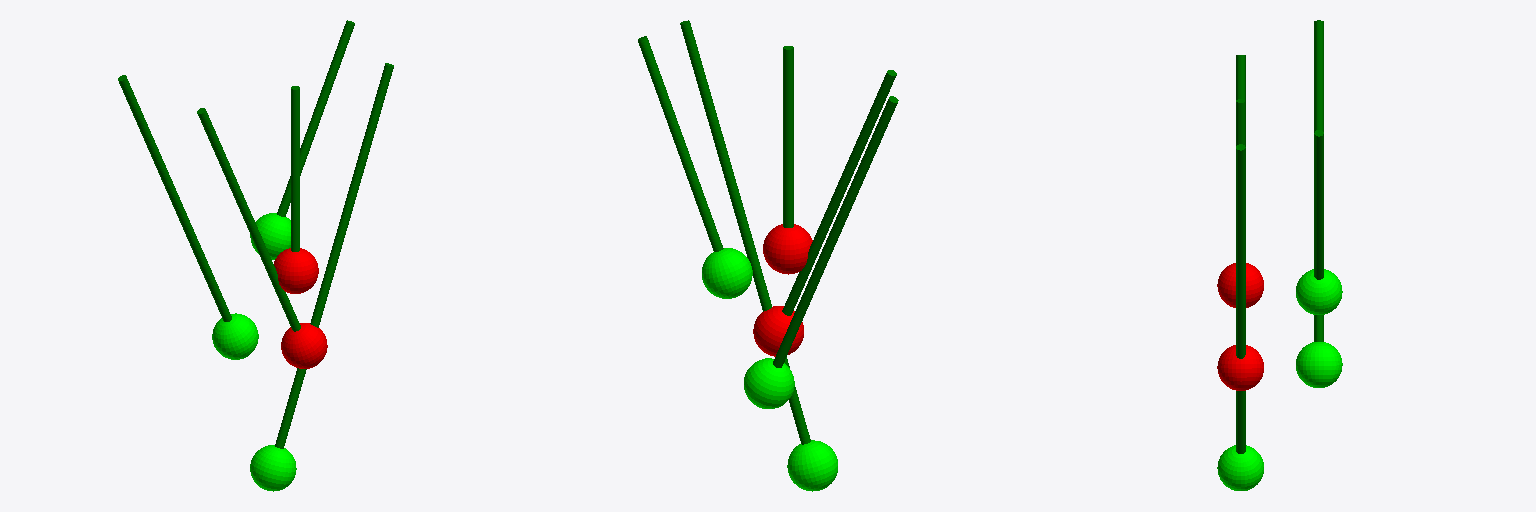
robot.urdf — straw_cluster11:
<?xml version="1.0" ?>
<!-- =================================================================================== -->
<!-- |    This document was autogenerated by xacro from cluster11_extras.xacro         | -->
<!-- |    EDITING THIS FILE BY HAND IS NOT RECOMMENDED                                 | -->
<!-- =================================================================================== -->
<robot name="straw_cluster11" xmlns:xacro="http://www.ros.org/wiki/xacro">
  <link name="world"/>
  <!-- Robot21 -->
  <link name="/yball_stem111">
    <gravity>1</gravity>
    <inertial>
      <origin rpy="0 0 0" xyz="0 0 0"/>
      <mass value=".00001"/>
      <inertia ixx="0.0000004" ixy="0.0" ixz="0.0" iyy="0.0000004" iyz="0.0" izz="0.0000004"/>
    </inertial>
    <visual>
      <geometry>
        <sphere radius=".00001"/>
      </geometry>
    </visual>
    <collision>
      <geometry>
        <sphere radius=".00001"/>
      </geometry>
    </collision>
  </link>
  <gazebo reference="/yball_stem111">
    <material>Gazebo/Green</material>
  </gazebo>
  <joint name="/stem111y" type="revolute">
    <parent link="world"/>
    <child link="/yball_stem111"/>
    <origin rpy="0 0 0" xyz="-0.45 -0.95 1.19"/>
    <!-- <origin xyz="0 0.06 1.19" rpy="0 0 0"/> in case of reference /base_link -->
    <axis xyz="0 1 0"/>
    <dynamics damping="0.0001" friction="0.0002"/>
    <limit effort="0.1" lower="-3.14159265359" upper="3.14159265359" velocity="1"/>
  </joint>
  <link name="/xball_stem111">
    <gravity>1</gravity>
    <inertial>
      <origin rpy="0 0 0" xyz="0 0 0"/>
      <mass value=".00001"/>
      <inertia ixx="0.0000004" ixy="0.0" ixz="0.0" iyy="0.0000004" iyz="0.0" izz="0.0000004"/>
    </inertial>
    <visual>
      <geometry>
        <sphere radius=".00001"/>
      </geometry>
    </visual>
    <collision>
      <geometry>
        <sphere radius=".00001"/>
      </geometry>
    </collision>
  </link>
  <gazebo reference="/xball_stem111">
    <material>Gazebo/Green</material>
  </gazebo>
  <joint name="/stem111x" type="revolute">
    <parent link="/yball_stem111"/>
    <child link="/xball_stem111"/>
    <origin rpy="0 0 0" xyz="0 0 0"/>
    <axis xyz="1 0 0"/>
    <dynamics damping="0.0001" friction="0.0002"/>
    <limit effort="0.1" lower="-3.14159265359" upper="3.14159265359" velocity="0.1"/>
  </joint>
  <!-- Define stem of straw111 -->
  <link name="/stem111">
    <inertial>
      <origin rpy="0 0 0" xyz="0 0 0"/>
      <mass value="0.0002"/>
      <inertia ixx="0.0000000005" ixy="0.0" ixz="0.0" iyy="0.0000000005" iyz="0.0" izz="0.0000000005"/>
    </inertial>
    <collision>
      <geometry>
        <cylinder length="0.13" radius="0.003"/>
      </geometry>
      <material name="green">
        <color rgba="0 0.501960784314 0 1"/>
      </material>
      <origin rpy="0 0 0" xyz="0 0 -0.065"/>
    </collision>
    <visual>
      <geometry>
        <cylinder length="0.13" radius="0.003"/>
      </geometry>
      <material name="green">
        <color rgba="0 0.501960784314 0 1"/>
      </material>
      <origin rpy="0 0 0" xyz="0 0 -0.065"/>
    </visual>
  </link>
  <gazebo reference="/stem111">
    <mu1>0.01</mu1>
    <mu2>0.01</mu2>
    <selfCollide>true</selfCollide>
    <maxContacts>2</maxContacts>
    <minDepth>0</minDepth>
    <maxVel>0.01</maxVel>
    <kp value="1"/>
    <kd value="0.1"/>
    <material>Gazebo/Green</material>
  </gazebo>
  <joint name="/xball_stem111" type="fixed">
    <parent link="/xball_stem111"/>
    <child link="/stem111"/>
    <origin rpy="0 0 0" xyz="0 0 0"/>
  </joint>
  <!-- Define straw111 -->
  <link name="/straw111">
    <gravity>1</gravity>
    <inertial>
      <origin rpy="0 0 0" xyz="0 0 0"/>
      <mass value="0.0002"/>
      <inertia ixx="0.00000018" ixy="0.0" ixz="0.0" iyy="0.00000018" iyz="0.0" izz="0.00000018"/>
    </inertial>
    <collision>
      <geometry>
        <sphere radius="0.015"/>
      </geometry>
    </collision>
    <visual>
      <geometry>
        <sphere radius="0.015"/>
      </geometry>
      <material name="Red">
        <color rgba="1 0 0 1"/>
      </material>
    </visual>
  </link>
  <gazebo reference="/straw111">
    <mu1>0.01</mu1>
    <mu2>0.01</mu2>
    <selfCollide>true</selfCollide>
    <maxContacts>2</maxContacts>
    <minDepth>0</minDepth>
    <maxVel>0.01</maxVel>
    <kp value="1000"/>
    <kd value="1"/>
    <material>Gazebo/Red</material>
  </gazebo>
  <joint name="/straw1_stem111" type="revolute">
    <parent link="/stem111"/>
    <child link="/straw111"/>
    <origin rpy="0 0 0" xyz="0 0 -0.13"/>
    <axis xyz="0 1 0"/>
    <dynamics damping="0.0000001" friction="0.0000002"/>
    <limit effort="0.01" lower="-3.14159265359" upper="3.14159265359" velocity="0.1"/>
  </joint>
  <!-- Robot22 -->
  <link name="/yball_stem112">
    <gravity>1</gravity>
    <inertial>
      <origin rpy="0 0 0" xyz="0 0 0"/>
      <mass value=".00001"/>
      <inertia ixx="0.00001" ixy="0.0" ixz="0.0" iyy="0.00001" iyz="0.0" izz="0.00001"/>
    </inertial>
    <visual>
      <geometry>
        <sphere radius=".00001"/>
      </geometry>
    </visual>
    <collision>
      <geometry>
        <sphere radius=".00001"/>
      </geometry>
    </collision>
  </link>
  <gazebo reference="/yball_stem112">
    <material>Gazebo/Green</material>
  </gazebo>
  <joint name="/stem112y" type="revolute">
    <parent link="world"/>
    <child link="/yball_stem112"/>
    <origin rpy="0 0.314159265359 0" xyz="-0.38 -0.95 1.19"/>
    <!-- <origin xyz="-0.03 0.06 1.21" rpy="0 0 0"/> in case of /base_link as reference frame -->
    <axis xyz="0 1 0"/>
    <dynamics damping="0.001" friction="0.002"/>
    <!--<dynamics damping="100" friction="100000"/> -->
    <limit effort="100" lower="-3.14159265359" upper="3.14159265359" velocity="1"/>
  </joint>
  <link name="/xball_stem112">
    <gravity>1</gravity>
    <inertial>
      <origin rpy="0 0 0" xyz="0 0 0"/>
      <mass value=".00001"/>
      <inertia ixx="0.00001" ixy="0.0" ixz="0.0" iyy="0.00001" iyz="0.0" izz="0.00001"/>
    </inertial>
    <visual>
      <geometry>
        <sphere radius=".00001"/>
      </geometry>
    </visual>
    <collision>
      <geometry>
        <sphere radius=".00001"/>
      </geometry>
    </collision>
  </link>
  <gazebo reference="/xball_stem112">
    <material>Gazebo/Green</material>
  </gazebo>
  <joint name="/stem112x" type="revolute">
    <parent link="/yball_stem112"/>
    <child link="/xball_stem112"/>
    <origin rpy="0 0 0" xyz="0 0 0"/>
    <axis xyz="1 0 0"/>
    <dynamics damping="0.001" friction="0.002"/>
    <!--<dynamics damping="1" friction="1000" /> -->
    <limit effort="100" lower="-3.14159265359" upper="3.14159265359" velocity="1"/>
  </joint>
  <!-- Define stem of straw112 -->
  <link name="/stem112">
    <gravity>1</gravity>
    <inertial>
      <origin rpy="0 0 0" xyz="0 0 0"/>
      <mass value="0.0001"/>
      <inertia ixx="0.0000000005" ixy="0.0" ixz="0.0" iyy="0.0000000005" iyz="0.0" izz="0.0000000005"/>
    </inertial>
    <collision>
      <geometry>
        <cylinder length="0.28" radius="0.003"/>
        <!-- was 0.15 -->
      </geometry>
      <material name="green">
        <color rgba="0 0.501960784314 0 1"/>
      </material>
      <origin rpy="0 0 0" xyz="0 0 -0.14"/>
    </collision>
    <visual>
      <geometry>
        <cylinder length="0.28" radius="0.003"/>
      </geometry>
      <material name="green">
        <color rgba="0 0.501960784314 0 1"/>
      </material>
      <origin rpy="0 0 0" xyz="0 0 -0.14"/>
    </visual>
  </link>
  <gazebo reference="/stem112">
    <mu1>0.01</mu1>
    <mu2>0.01</mu2>
    <selfCollide>true</selfCollide>
    <maxContacts>2</maxContacts>
    <minDepth>0</minDepth>
    <maxVel>0.01</maxVel>
    <kp value="1000"/>
    <kd value="1"/>
    <material>Gazebo/Green</material>
  </gazebo>
  <joint name="/xball_stem112" type="fixed">
    <parent link="/xball_stem112"/>
    <child link="/stem112"/>
    <origin rpy="0 0 0" xyz="0 0 0"/>
  </joint>
  <!-- Define straw112 -->
  <link name="/straw112">
    <gravity>1</gravity>
    <inertial>
      <origin rpy="0 0 0" xyz="0 0 0"/>
      <mass value="0.0002"/>
      <inertia ixx="0.00000018" ixy="0.0" ixz="0.0" iyy="0.00000018" iyz="0.0" izz="0.00000018"/>
    </inertial>
    <collision>
      <geometry>
        <sphere radius="0.015"/>
      </geometry>
    </collision>
    <visual>
      <geometry>
        <sphere radius="0.015"/>
      </geometry>
      <material name="green">
        <color rgba="0 1 0 1"/>
      </material>
    </visual>
  </link>
  <gazebo reference="/straw112">
    <mu1>0.01</mu1>
    <mu2>0.01</mu2>
    <selfCollide>true</selfCollide>
    <maxContacts>2</maxContacts>
    <minDepth>0</minDepth>
    <maxVel>0.01</maxVel>
    <kp value="1000"/>
    <kd value="1"/>
    <material>Gazebo/Green</material>
  </gazebo>
  <joint name="/straw112_stem112" type="revolute">
    <parent link="/stem112"/>
    <child link="/straw112"/>
    <origin rpy="0 0 0" xyz="0 0 -0.28"/>
    <axis xyz="0 1 0"/>
    <dynamics damping="0.0000001" friction="0.0000002"/>
    <limit effort="1" lower="-3.14159265359" upper="3.14159265359" velocity="0.1"/>
  </joint>
  <!-- Robot 23 -->
  <link name="/yball_stem113">
    <gravity>1</gravity>
    <inertial>
      <origin rpy="0 0 0" xyz="0 0 0"/>
      <mass value=".00001"/>
      <inertia ixx="0.00001" ixy="0.0" ixz="0.0" iyy="0.00001" iyz="0.0" izz="0.00001"/>
    </inertial>
    <visual>
      <geometry>
        <sphere radius=".00001"/>
      </geometry>
    </visual>
    <collision>
      <geometry>
        <sphere radius=".00001"/>
      </geometry>
    </collision>
  </link>
  <gazebo reference="/yball_stem113">
    <material>Gazebo/Green</material>
  </gazebo>
  <joint name="/stem113y" type="revolute">
    <parent link="world"/>
    <child link="/yball_stem113"/>
    <origin rpy="0 -0.392699081699 0" xyz="-0.52 -0.95 1.19"/>
    <!-- <origin xyz="-0.03 0.06 1.21" rpy="0 0 0"/> in case of /base_link as reference frame -->
    <axis xyz="0 1 0"/>
    <dynamics damping="0.0001" friction="0.0002"/>
    <!--<dynamics damping="100" friction="100000"/>-->
    <limit effort="10" lower="-3.14159265359" upper="3.14159265359" velocity="1"/>
  </joint>
  <link name="/xball_stem113">
    <gravity>1</gravity>
    <inertial>
      <origin rpy="0 0 0" xyz="0 0 0"/>
      <mass value=".00001"/>
      <inertia ixx="0.00001" ixy="0.0" ixz="0.0" iyy="0.00001" iyz="0.0" izz="0.00001"/>
    </inertial>
    <visual>
      <geometry>
        <sphere radius=".00001"/>
      </geometry>
    </visual>
    <collision>
      <geometry>
        <sphere radius=".00001"/>
      </geometry>
    </collision>
  </link>
  <gazebo reference="/xball_stem113">
    <material>Gazebo/Green</material>
  </gazebo>
  <joint name="/stem113x" type="revolute">
    <parent link="/yball_stem113"/>
    <child link="/xball_stem113"/>
    <origin rpy="0 0 0" xyz="0 0 0"/>
    <axis xyz="1 0 0"/>
    <dynamics damping="0.0001" friction="0.0002"/>
    <limit effort="10" lower="-3.14159265359" upper="3.14159265359" velocity="1"/>
  </joint>
  <!-- Define stem of straw113 -->
  <link name="/stem113">
    <gravity>1</gravity>
    <inertial>
      <origin rpy="0 0 0" xyz="0 0 0"/>
      <mass value="0.0001"/>
      <inertia ixx="0.0000000005" ixy="0.0" ixz="0.0" iyy="0.0000000005" iyz="0.0" izz="0.0000000005"/>
    </inertial>
    <collision>
      <geometry>
        <cylinder length="0.2" radius="0.003"/>
        <!-- was 0.15 -->
      </geometry>
      <material name="green">
        <color rgba="0 0.501960784314 0 1"/>
      </material>
      <origin rpy="0 0 0" xyz="0 0 -0.1"/>
    </collision>
    <visual>
      <geometry>
        <cylinder length="0.2" radius="0.003"/>
      </geometry>
      <material name="green">
        <color rgba="0 0.501960784314 0 1"/>
      </material>
      <origin rpy="0 0 0" xyz="0 0 -0.1"/>
    </visual>
  </link>
  <gazebo reference="/stem113">
    <mu1>0.01</mu1>
    <mu2>0.01</mu2>
    <selfCollide>true</selfCollide>
    <maxContacts>2</maxContacts>
    <minDepth>0</minDepth>
    <maxVel>0.01</maxVel>
    <kp value="10"/>
    <kd value="1"/>
    <material>Gazebo/Green</material>
  </gazebo>
  <joint name="/xball_stem113" type="fixed">
    <parent link="/xball_stem113"/>
    <child link="/stem113"/>
    <origin rpy="0 0 0" xyz="0 0 0"/>
  </joint>
  <!-- Define straw113 -->
  <link name="/straw113">
    <gravity>1</gravity>
    <inertial>
      <origin rpy="0 0 0" xyz="0 0 0"/>
      <mass value="0.0002"/>
      <inertia ixx="0.00000018" ixy="0.0" ixz="0.0" iyy="0.00000018" iyz="0.0" izz="0.00000018"/>
    </inertial>
    <collision>
      <geometry>
        <sphere radius="0.015"/>
      </geometry>
    </collision>
    <visual>
      <geometry>
        <sphere radius="0.015"/>
      </geometry>
      <material name="Red">
        <color rgba="1 0 0 1"/>
      </material>
    </visual>
  </link>
  <gazebo reference="/straw113">
    <mu1>0.01</mu1>
    <mu2>0.01</mu2>
    <selfCollide>true</selfCollide>
    <maxContacts>2</maxContacts>
    <minDepth>0</minDepth>
    <maxVel>0.01</maxVel>
    <kp value="10"/>
    <kd value="1"/>
    <material>Gazebo/Red</material>
  </gazebo>
  <joint name="/straw113_stem113" type="revolute">
    <parent link="/stem113"/>
    <child link="/straw113"/>
    <origin rpy="0 0 0" xyz="0 0 -0.2"/>
    <axis xyz="0 1 0"/>
    <dynamics damping="0.0000001" friction="0.0000002"/>
    <limit effort="0.01" lower="-3.14159265359" upper="3.14159265359" velocity="0.1"/>
  </joint>
  <!-- ############################################################################################################################################ -->
  <!-- Robot24 -->
  <link name="/yball_stem114">
    <gravity>1</gravity>
    <inertial>
      <origin rpy="0 0 0" xyz="0 0 0"/>
      <mass value=".00001"/>
      <inertia ixx="0.00001" ixy="0.0" ixz="0.0" iyy="0.00001" iyz="0.0" izz="0.00001"/>
    </inertial>
    <visual>
      <geometry>
        <sphere radius=".00001"/>
      </geometry>
    </visual>
    <collision>
      <geometry>
        <sphere radius=".00001"/>
      </geometry>
    </collision>
  </link>
  <gazebo reference="/yball_stem114">
    <material>Gazebo/Green</material>
  </gazebo>
  <joint name="/stem114y" type="revolute">
    <parent link="world"/>
    <child link="/yball_stem114"/>
    <origin rpy="0 0.392699081699 0" xyz="-0.38 -0.9 1.2"/>
    <!-- <origin xyz="-0.03 0.06 1.21" rpy="0 0 0"/> in case of /base_link as reference frame -->
    <axis xyz="0 1 0"/>
    <dynamics damping="0.001" friction="0.002"/>
    <!--<dynamics damping="100" friction="100000"/> -->
    <limit effort="100" lower="-3.14159265359" upper="3.14159265359" velocity="1"/>
  </joint>
  <link name="/xball_stem114">
    <gravity>1</gravity>
    <inertial>
      <origin rpy="0 0 0" xyz="0 0 0"/>
      <mass value=".00001"/>
      <inertia ixx="0.00001" ixy="0.0" ixz="0.0" iyy="0.00001" iyz="0.0" izz="0.00001"/>
    </inertial>
    <visual>
      <geometry>
        <sphere radius=".00001"/>
      </geometry>
    </visual>
    <collision>
      <geometry>
        <sphere radius=".00001"/>
      </geometry>
    </collision>
  </link>
  <gazebo reference="/xball_stem114">
    <material>Gazebo/Green</material>
  </gazebo>
  <joint name="/stem114x" type="revolute">
    <parent link="/yball_stem114"/>
    <child link="/xball_stem114"/>
    <origin rpy="0 0 0" xyz="0 0 0"/>
    <axis xyz="1 0 0"/>
    <dynamics damping="0.001" friction="0.002"/>
    <!--<dynamics damping="1" friction="1000" /> -->
    <limit effort="100" lower="-3.14159265359" upper="3.14159265359" velocity="1"/>
  </joint>
  <!-- Define stem of straw114 -->
  <link name="/stem114">
    <gravity>1</gravity>
    <inertial>
      <origin rpy="0 0 0" xyz="0 0 0"/>
      <mass value="0.0001"/>
      <inertia ixx="0.0000000005" ixy="0.0" ixz="0.0" iyy="0.0000000005" iyz="0.0" izz="0.0000000005"/>
    </inertial>
    <collision>
      <geometry>
        <cylinder length="0.15" radius="0.003"/>
        <!-- was 0.15 -->
      </geometry>
      <material name="green">
        <color rgba="0 0.501960784314 0 1"/>
      </material>
      <origin rpy="0 0 0" xyz="0 0 -0.075"/>
    </collision>
    <visual>
      <geometry>
        <cylinder length="0.15" radius="0.003"/>
      </geometry>
      <material name="green">
        <color rgba="0 0.501960784314 0 1"/>
      </material>
      <origin rpy="0 0 0" xyz="0 0 -0.075"/>
    </visual>
  </link>
  <gazebo reference="/stem114">
    <mu1>0.01</mu1>
    <mu2>0.01</mu2>
    <selfCollide>true</selfCollide>
    <maxContacts>2</maxContacts>
    <minDepth>0</minDepth>
    <maxVel>0.01</maxVel>
    <kp value="1000"/>
    <kd value="1"/>
    <material>Gazebo/Green</material>
  </gazebo>
  <joint name="/xball_stem114" type="fixed">
    <parent link="/xball_stem114"/>
    <child link="/stem114"/>
    <origin rpy="0 0 0" xyz="0 0 0"/>
  </joint>
  <!-- Define straw114 -->
  <link name="/straw114">
    <gravity>1</gravity>
    <inertial>
      <origin rpy="0 0 0" xyz="0 0 0"/>
      <mass value="0.0002"/>
      <inertia ixx="0.00000018" ixy="0.0" ixz="0.0" iyy="0.00000018" iyz="0.0" izz="0.00000018"/>
    </inertial>
    <collision>
      <geometry>
        <sphere radius="0.015"/>
      </geometry>
    </collision>
    <visual>
      <geometry>
        <sphere radius="0.015"/>
      </geometry>
      <material name="green">
        <color rgba="0 1 0 1"/>
      </material>
    </visual>
  </link>
  <gazebo reference="/straw114">
    <mu1>0.01</mu1>
    <mu2>0.01</mu2>
    <selfCollide>true</selfCollide>
    <maxContacts>2</maxContacts>
    <minDepth>0</minDepth>
    <maxVel>0.01</maxVel>
    <kp value="1000"/>
    <kd value="1"/>
    <material>Gazebo/Green</material>
  </gazebo>
  <joint name="/straw114_stem114" type="revolute">
    <parent link="/stem114"/>
    <child link="/straw114"/>
    <origin rpy="0 0 0" xyz="0 0 -0.15"/>
    <axis xyz="0 1 0"/>
    <dynamics damping="0.0000001" friction="0.0000002"/>
    <limit effort="0.01" lower="-3.14159265359" upper="3.14159265359" velocity="0.1"/>
  </joint>
  <!-- ############################################################################################################################################ -->
  <!-- Robot25 -->
  <link name="/yball_stem115">
    <gravity>1</gravity>
    <inertial>
      <origin rpy="0 0 0" xyz="0 0 0"/>
      <mass value=".00001"/>
      <inertia ixx="0.00001" ixy="0.0" ixz="0.0" iyy="0.00001" iyz="0.0" izz="0.00001"/>
    </inertial>
    <visual>
      <geometry>
        <sphere radius=".00001"/>
      </geometry>
    </visual>
    <collision>
      <geometry>
        <sphere radius=".00001"/>
      </geometry>
    </collision>
  </link>
  <gazebo reference="/yball_stem115">
    <material>Gazebo/Green</material>
  </gazebo>
  <joint name="/stem115y" type="revolute">
    <parent link="world"/>
    <child link="/yball_stem115"/>
    <origin rpy="0 -0.392699081699 0" xyz="-0.55 -0.9 1.2"/>
    <!-- <origin xyz="-0.03 0.06 1.21" rpy="0 0 0"/> in case of /base_link as reference frame -->
    <axis xyz="0 1 0"/>
    <dynamics damping="0.001" friction="0.002"/>
    <!--<dynamics damping="100" friction="100000"/> -->
    <limit effort="100" lower="-3.14159265359" upper="3.14159265359" velocity="1"/>
  </joint>
  <link name="/xball_stem115">
    <gravity>1</gravity>
    <inertial>
      <origin rpy="0 0 0" xyz="0 0 0"/>
      <mass value=".00001"/>
      <inertia ixx="0.00001" ixy="0.0" ixz="0.0" iyy="0.00001" iyz="0.0" izz="0.00001"/>
    </inertial>
    <visual>
      <geometry>
        <sphere radius=".00001"/>
      </geometry>
    </visual>
    <collision>
      <geometry>
        <sphere radius=".00001"/>
      </geometry>
    </collision>
  </link>
  <gazebo reference="/xball_stem115">
    <material>Gazebo/Green</material>
  </gazebo>
  <joint name="/stem115x" type="revolute">
    <parent link="/yball_stem115"/>
    <child link="/xball_stem115"/>
    <origin rpy="0 0 0" xyz="0 0 0"/>
    <axis xyz="1 0 0"/>
    <dynamics damping="0.001" friction="0.002"/>
    <!--<dynamics damping="1" friction="1000" /> -->
    <limit effort="100" lower="-3.14159265359" upper="3.14159265359" velocity="1"/>
  </joint>
  <!-- Define stem of straw115 -->
  <link name="/stem115">
    <gravity>1</gravity>
    <inertial>
      <origin rpy="0 0 0" xyz="0 0 0"/>
      <mass value="0.0001"/>
      <inertia ixx="0.0000000005" ixy="0.0" ixz="0.0" iyy="0.0000000005" iyz="0.0" izz="0.0000000005"/>
    </inertial>
    <collision>
      <geometry>
        <cylinder length="0.22" radius="0.003"/>
        <!-- was 0.15 -->
      </geometry>
      <material name="green">
        <color rgba="0 0.501960784314 0 1"/>
      </material>
      <origin rpy="0 0 0" xyz="0 0 -0.11"/>
    </collision>
    <visual>
      <geometry>
        <cylinder length="0.22" radius="0.003"/>
      </geometry>
      <material name="green">
        <color rgba="0 0.501960784314 0 1"/>
      </material>
      <origin rpy="0 0 0" xyz="0 0 -0.11"/>
    </visual>
  </link>
  <gazebo reference="/stem115">
    <mu1>0.01</mu1>
    <mu2>0.01</mu2>
    <selfCollide>true</selfCollide>
    <maxContacts>2</maxContacts>
    <minDepth>0</minDepth>
    <maxVel>0.01</maxVel>
    <kp value="1000"/>
    <kd value="1"/>
    <material>Gazebo/Green</material>
  </gazebo>
  <joint name="/xball_stem115" type="fixed">
    <parent link="/xball_stem115"/>
    <child link="/stem115"/>
    <origin rpy="0 0 0" xyz="0 0 0"/>
  </joint>
  <!-- Define straw115 -->
  <link name="/straw115">
    <gravity>1</gravity>
    <inertial>
      <origin rpy="0 0 0" xyz="0 0 0"/>
      <mass value="0.0002"/>
      <inertia ixx="0.00000018" ixy="0.0" ixz="0.0" iyy="0.00000018" iyz="0.0" izz="0.00000018"/>
    </inertial>
    <collision>
      <geometry>
        <sphere radius="0.015"/>
      </geometry>
    </collision>
    <visual>
      <geometry>
        <sphere radius="0.015"/>
      </geometry>
      <material name="green">
        <color rgba="0 1 0 1"/>
      </material>
    </visual>
  </link>
  <gazebo reference="/straw115">
    <mu1>0.01</mu1>
    <mu2>0.01</mu2>
    <selfCollide>true</selfCollide>
    <maxContacts>2</maxContacts>
    <minDepth>0</minDepth>
    <maxVel>0.01</maxVel>
    <kp value="1000"/>
    <kd value="1"/>
    <material>Gazebo/Green</material>
  </gazebo>
  <joint name="/straw115_stem115" type="revolute">
    <parent link="/stem115"/>
    <child link="/straw115"/>
    <origin rpy="0 0 0" xyz="0 0 -0.22"/>
    <axis xyz="0 1 0"/>
    <dynamics damping="0.0000001" friction="0.0000002"/>
    <limit effort="0.01" lower="-3.14159265359" upper="3.14159265359" velocity="0.1"/>
  </joint>
</robot>

--- Render facts (derived) ---
Views: 3 orthographic renders of the robot side by side, from view 1: azimuth 30°, elevation 25°; view 2: azimuth 150°, elevation 25°; view 3: azimuth 270°, elevation 25°.
Robot: straw_cluster11 — 21 links, 20 joints (15 revolute, 5 fixed); root link world; default pose: every joint at zero.
Links seen in each view (by area): view 1: /stem112, /stem115, /stem113, /stem114, /straw112, /straw115, /straw113, /straw111, /stem111, /straw114; view 2: /stem112, /stem115, /stem113, /stem114, /straw114, /straw112, /stem111, /straw115, /straw111, /straw113; view 3: /stem112, /straw115, /straw112, /straw114, /straw113, /stem114, /stem115, /straw111.
Link boxes in pixels (x1=…): /stem112: x1=275, y1=63, x2=393, y2=448; /stem115: x1=118, y1=75, x2=231, y2=321; /stem113: x1=197, y1=108, x2=300, y2=331; /stem114: x1=277, y1=20, x2=354, y2=216; /straw112: x1=250, y1=445, x2=296, y2=491; /straw115: x1=212, y1=313, x2=258, y2=359; /straw113: x1=281, y1=323, x2=327, y2=368; /straw111: x1=274, y1=248, x2=318, y2=293; /stem111: x1=291, y1=86, x2=299, y2=251; /straw114: x1=250, y1=213, x2=290, y2=259; /stem112: x1=680, y1=20, x2=810, y2=444; /stem115: x1=773, y1=96, x2=898, y2=367; /stem113: x1=782, y1=70, x2=896, y2=315; /stem114: x1=638, y1=36, x2=723, y2=251; /straw114: x1=702, y1=248, x2=752, y2=298; /straw112: x1=787, y1=440, x2=837, y2=491; /stem111: x1=783, y1=46, x2=793, y2=227; /straw115: x1=744, y1=358, x2=794, y2=408; /straw111: x1=763, y1=224, x2=812, y2=274; /straw113: x1=753, y1=306, x2=803, y2=356; /stem112: x1=1236, y1=144, x2=1245, y2=453; /straw115: x1=1296, y1=342, x2=1342, y2=387; /straw112: x1=1217, y1=445, x2=1263, y2=490; /straw114: x1=1296, y1=269, x2=1342, y2=314; /straw113: x1=1217, y1=345, x2=1263, y2=390; /stem114: x1=1314, y1=130, x2=1323, y2=279; /stem115: x1=1314, y1=20, x2=1323, y2=341; /straw111: x1=1217, y1=263, x2=1263, y2=307.
Size in the robot's own frame: 0.1756 by 0.08 by 0.2924 metres.
Geometry: primitives only (box / cylinder / sphere), no mesh files.
